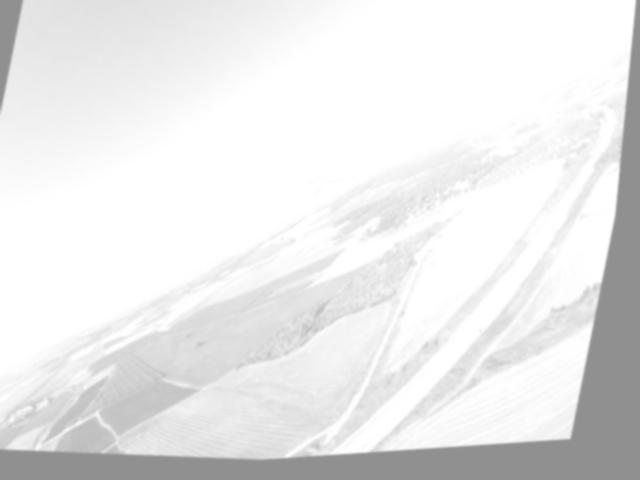hedef: (246, 138, 404, 229)
